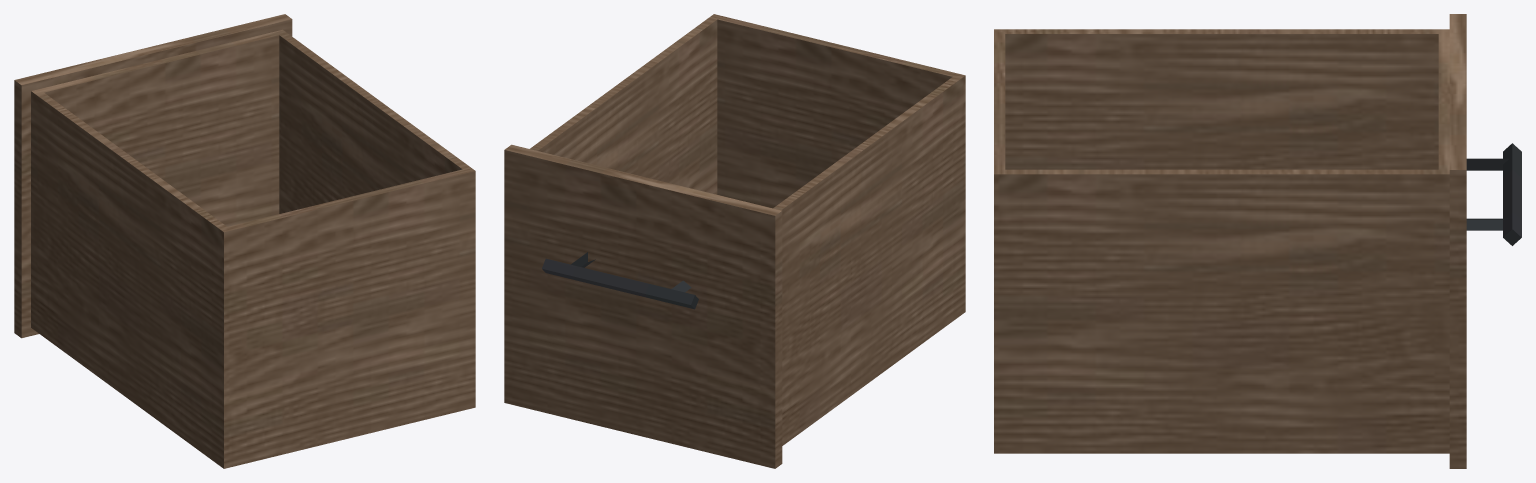
File: Washbasin_drawer_05.glb
3 views of the same model, side by side, from view 1: azimuth 30°, elevation 25°; view 2: azimuth 150°, elevation 25°; view 3: azimuth 270°, elevation 25° (orthographic). The views are drawn at different scales.
Visible parts, largest first — view 1: Washbasin_drawer_05; view 2: Washbasin_drawer_05; view 3: Washbasin_drawer_05.
Boxes of the visible parts, x1=… form: Washbasin_drawer_05: x1=14, y1=14, x2=475, y2=468; Washbasin_drawer_05: x1=504, y1=14, x2=965, y2=468; Washbasin_drawer_05: x1=994, y1=14, x2=1521, y2=468.
Bounding box in the file's own units: 0.3464 × 0.3092 × 0.4949.
2 materials, 2 textured.
